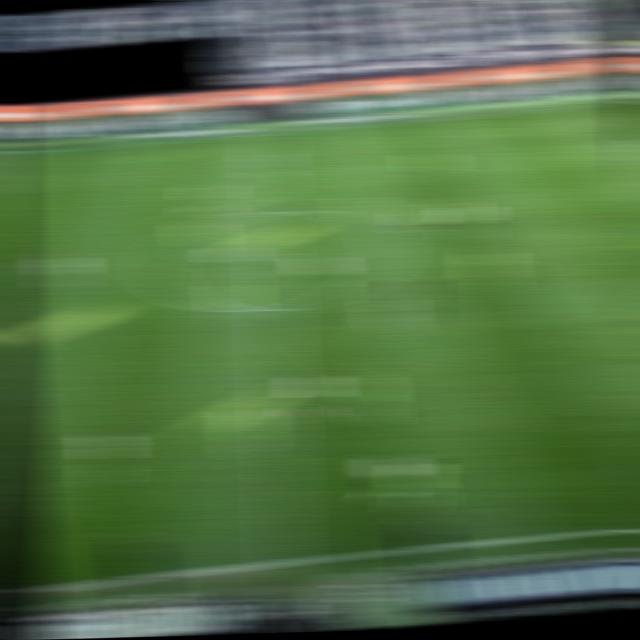bigarea_top_inner: (606, 131, 640, 148)
halfcircle_bottom: (259, 301, 294, 317)
halfcircle_top: (255, 204, 290, 219)
midline_bottom_intersection: (266, 554, 304, 572)
midline_top_intersection: (251, 125, 287, 139)
